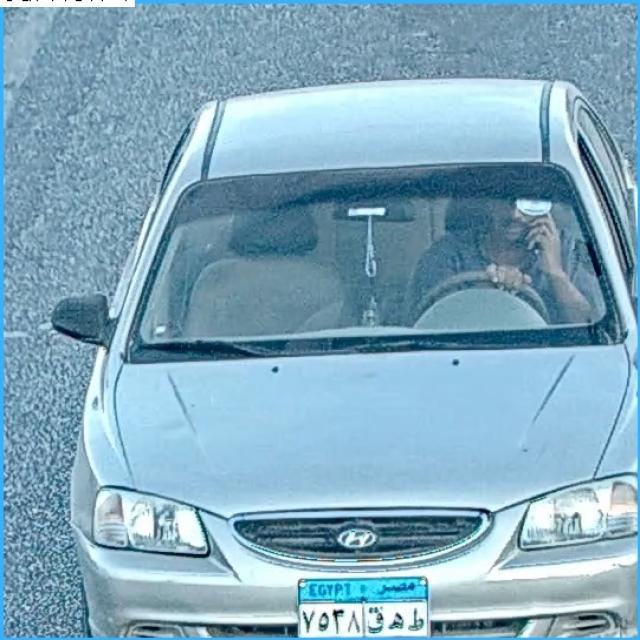windshield: (136, 172, 607, 344)
